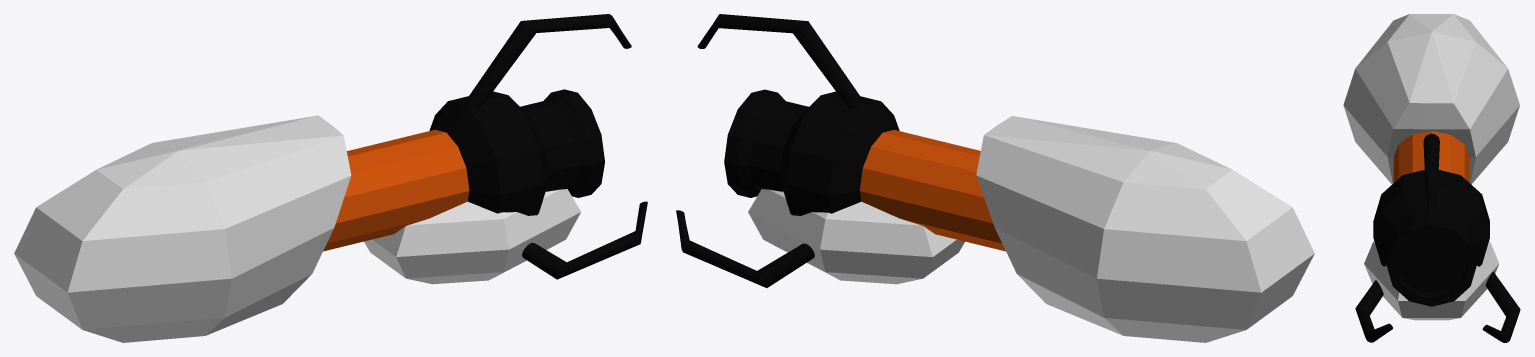
Rendered from lowpolyportalgunorange.obj.
The picture shows the model from 3 angles, left to right: view 1: azimuth 30°, elevation 25°; view 2: azimuth 150°, elevation 25°; view 3: azimuth 270°, elevation 25°; orthographic projection. The views are drawn at different scales.
Parts seen in each view (by area): view 1: Cylinder.001; view 2: Cylinder.001; view 3: Cylinder.001.
Boxes of the visible parts, x1,y1,x2,y2 form: Cylinder.001: (14,14,647,342); Cylinder.001: (676,14,1314,342); Cylinder.001: (1343,14,1520,342).
Size of the model in its own units: 4.64 by 1.78 by 1.46.
